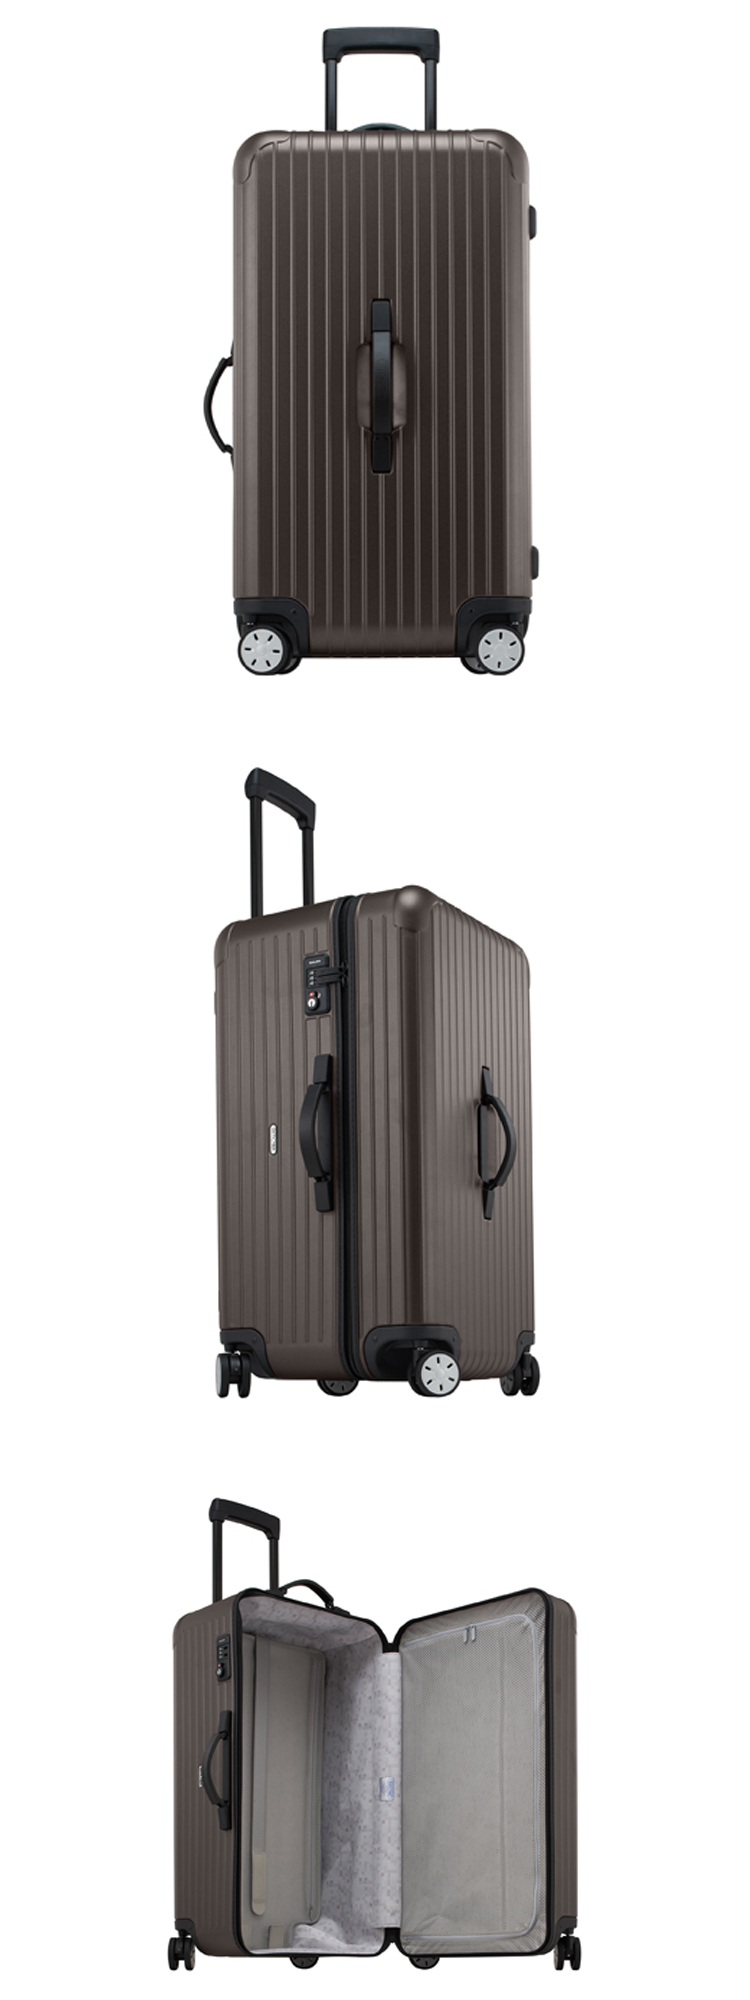suitcase: (202, 22, 548, 677), (210, 761, 543, 1401)
